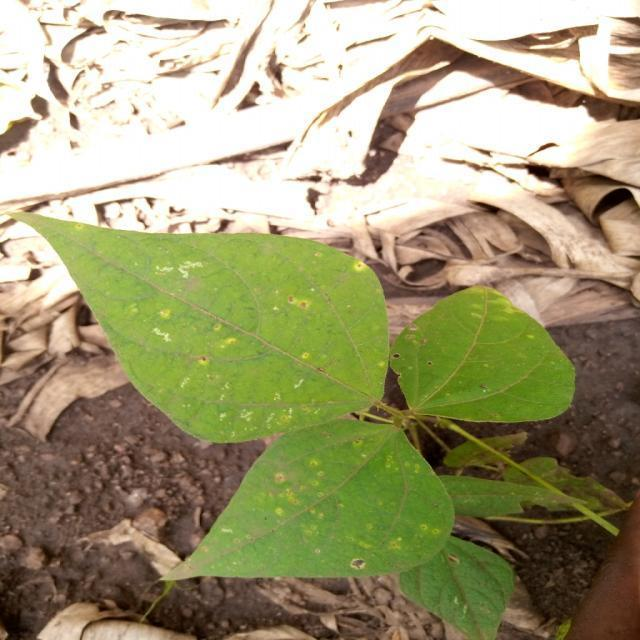embun tepung: (105, 244, 350, 433)
mozaik: (273, 447, 434, 585), (419, 299, 563, 441)
